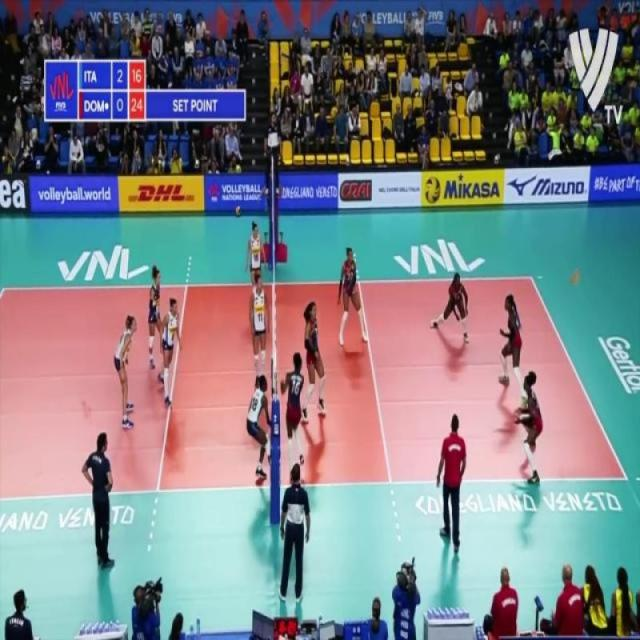volleyball: (424, 174, 441, 204), (568, 268, 583, 287), (236, 206, 240, 217)
